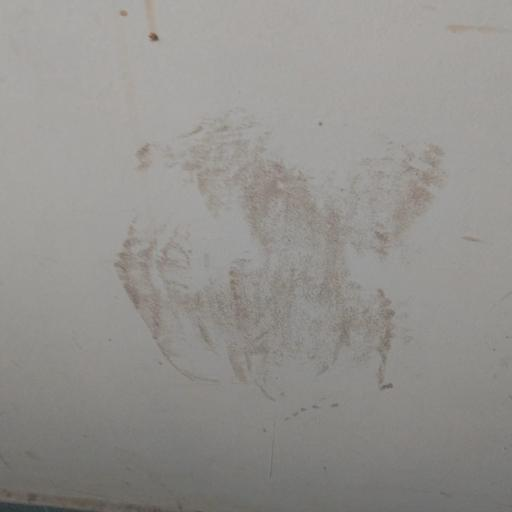stain: (104, 89, 454, 421), (116, 2, 166, 53), (438, 17, 512, 50), (461, 229, 490, 252), (500, 277, 512, 317)
